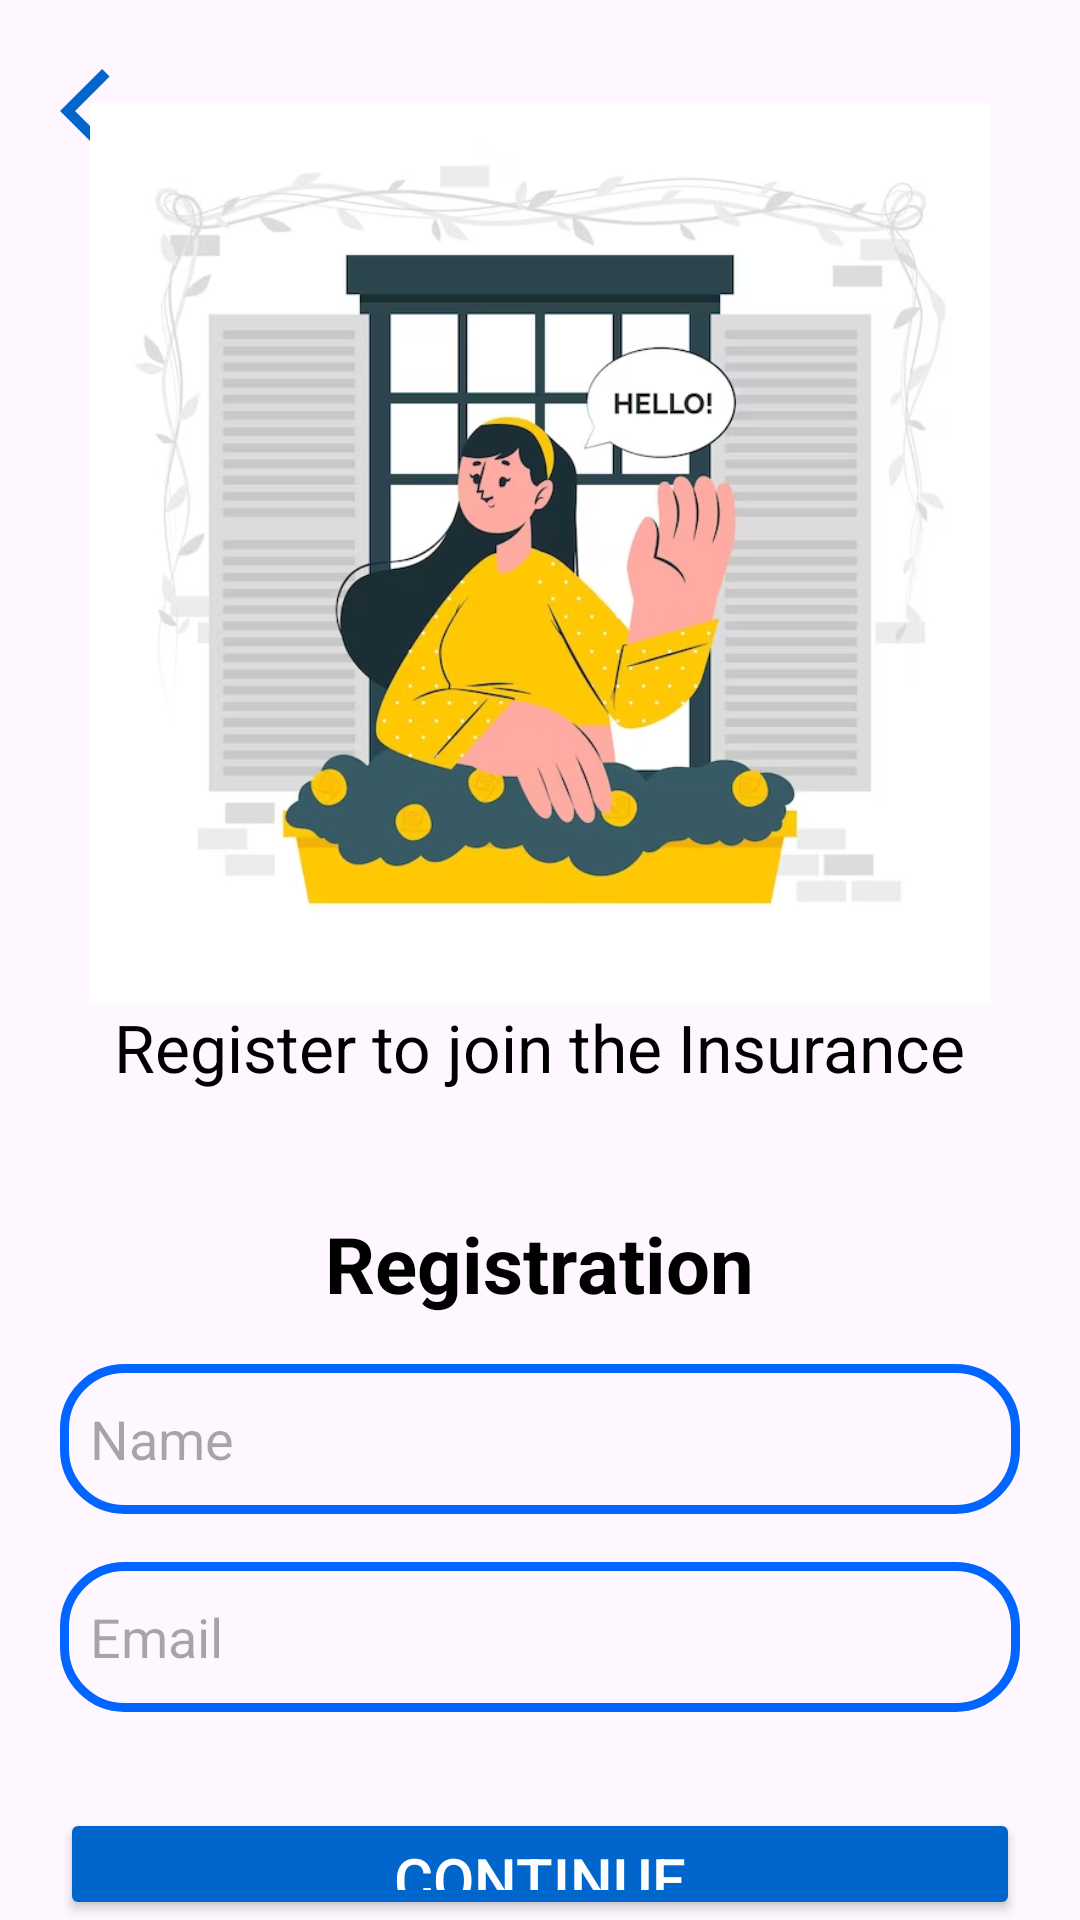

Named icons in this screenshot (1080 × 1920) and their centers, point (x, y):
arrow back: point (85, 105)
